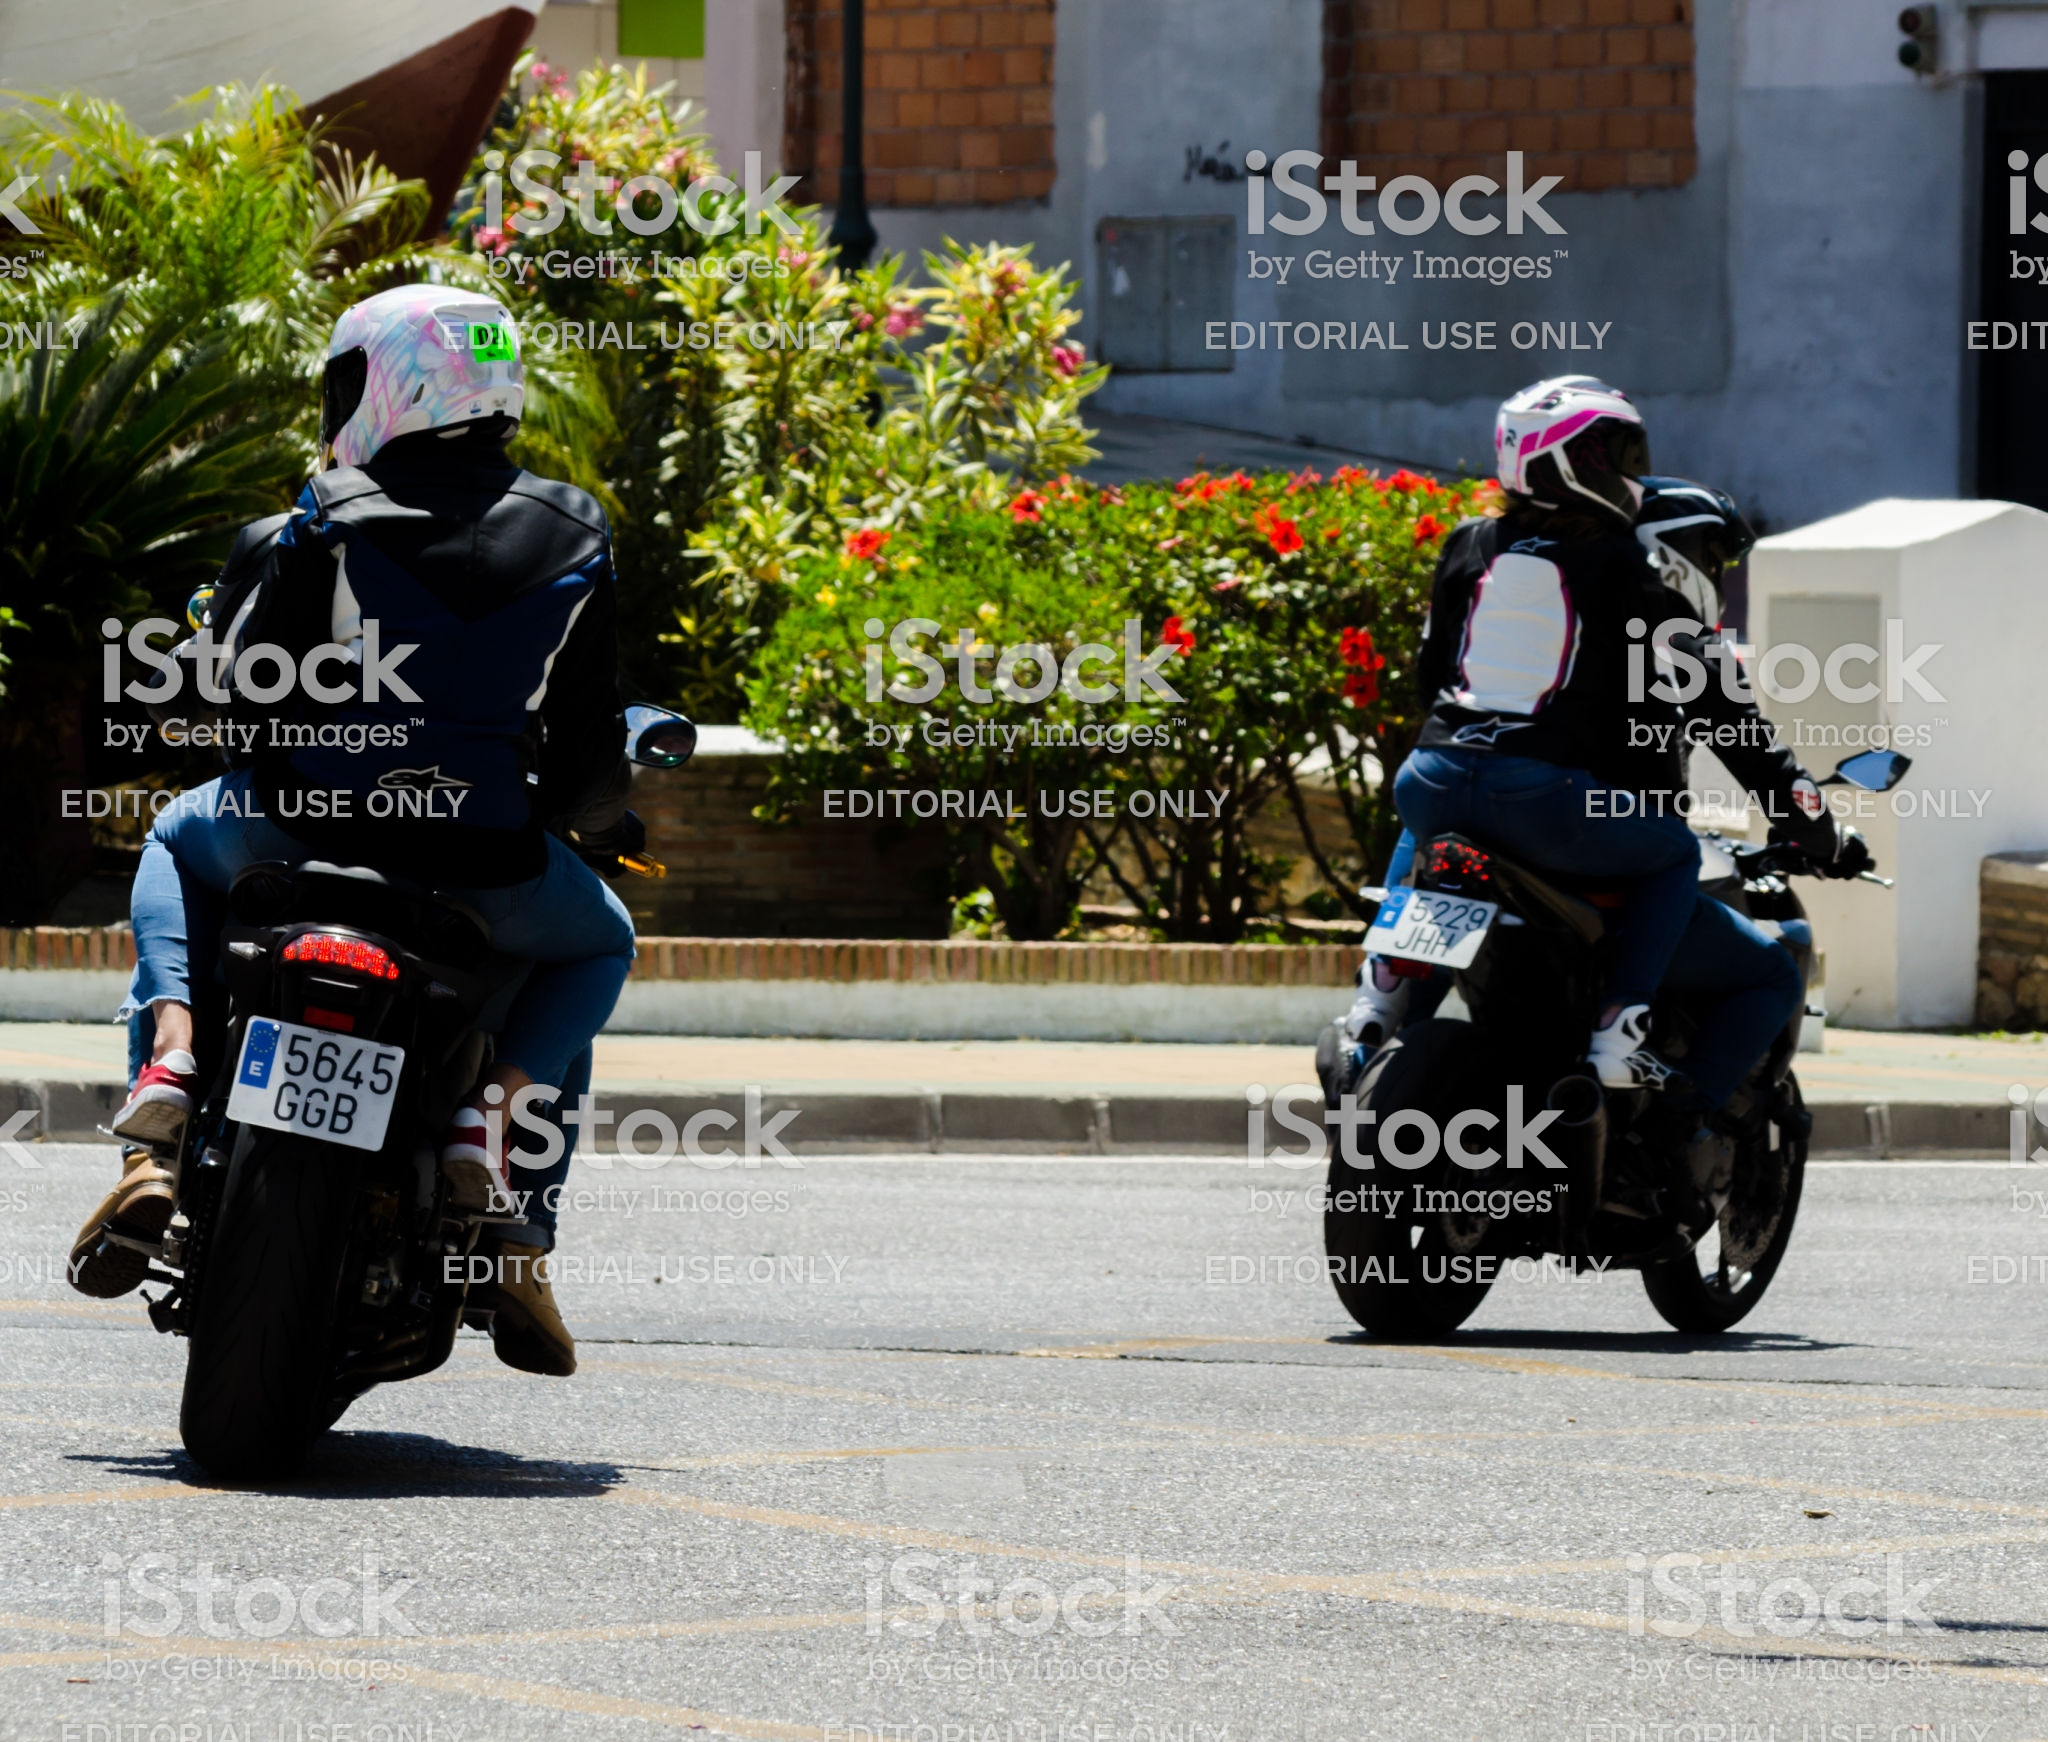helmet: (294, 256, 586, 486), (1474, 361, 1656, 524)
